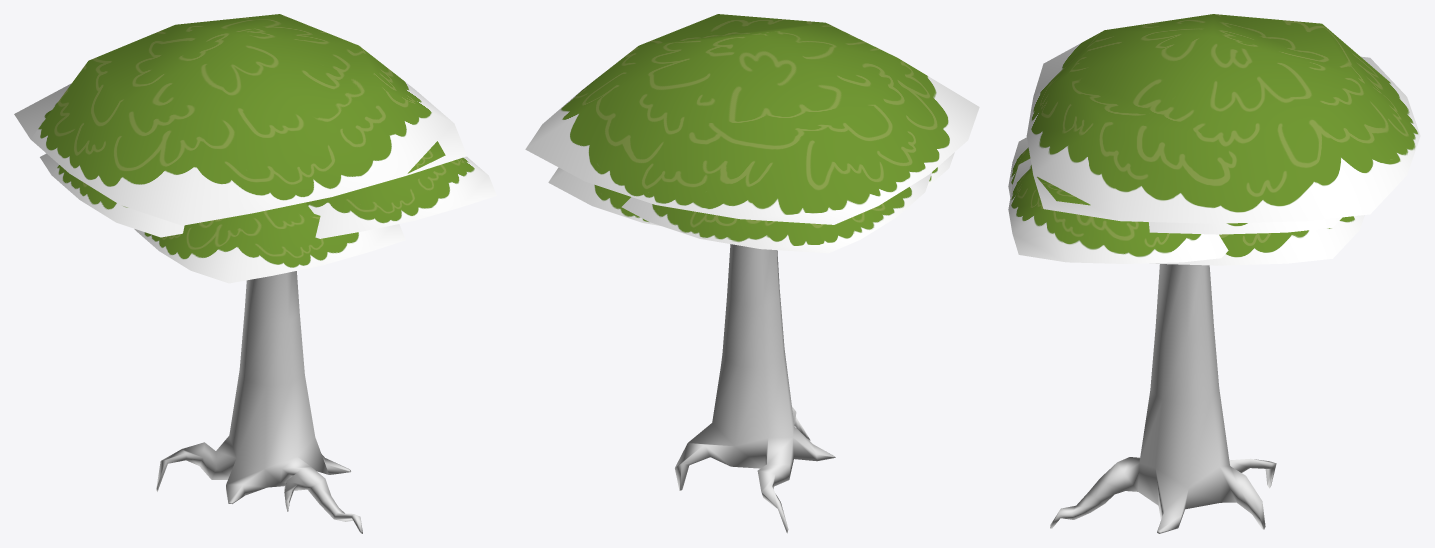
File: tree 1.FBX
3 renders of one model, left to right at view 1: azimuth 30°, elevation 25°; view 2: azimuth 150°, elevation 25°; view 3: azimuth 270°, elevation 25°, orthographic. The views are drawn at different scales.
Visible parts, largest first — view 1: Plane001, T1, Plane003, Plane002, Plane004; view 2: Plane001, T1, Plane004, Plane007; view 3: Plane001, T1, Plane002, Plane007, Plane006, Plane003.
Boxes of the visible parts, left/top/right/bottom form: Plane001: left=14, top=14, right=467, bottom=225; T1: left=156, top=271, right=362, bottom=533; Plane003: left=134, top=202, right=405, bottom=283; Plane002: left=305, top=141, right=496, bottom=238; Plane004: left=40, top=153, right=184, bottom=237; Plane001: left=525, top=14, right=979, bottom=224; T1: left=675, top=244, right=835, bottom=533; Plane004: left=621, top=172, right=931, bottom=253; Plane007: left=548, top=167, right=660, bottom=225; Plane001: left=1026, top=14, right=1420, bottom=223; T1: left=1050, top=264, right=1276, bottom=533; Plane002: left=1008, top=158, right=1228, bottom=263; Plane007: left=1149, top=215, right=1364, bottom=265; Plane006: left=1148, top=217, right=1342, bottom=234; Plane003: left=1008, top=137, right=1030, bottom=196.
Bounding box in the file's own units: 199 × 249 × 193.
